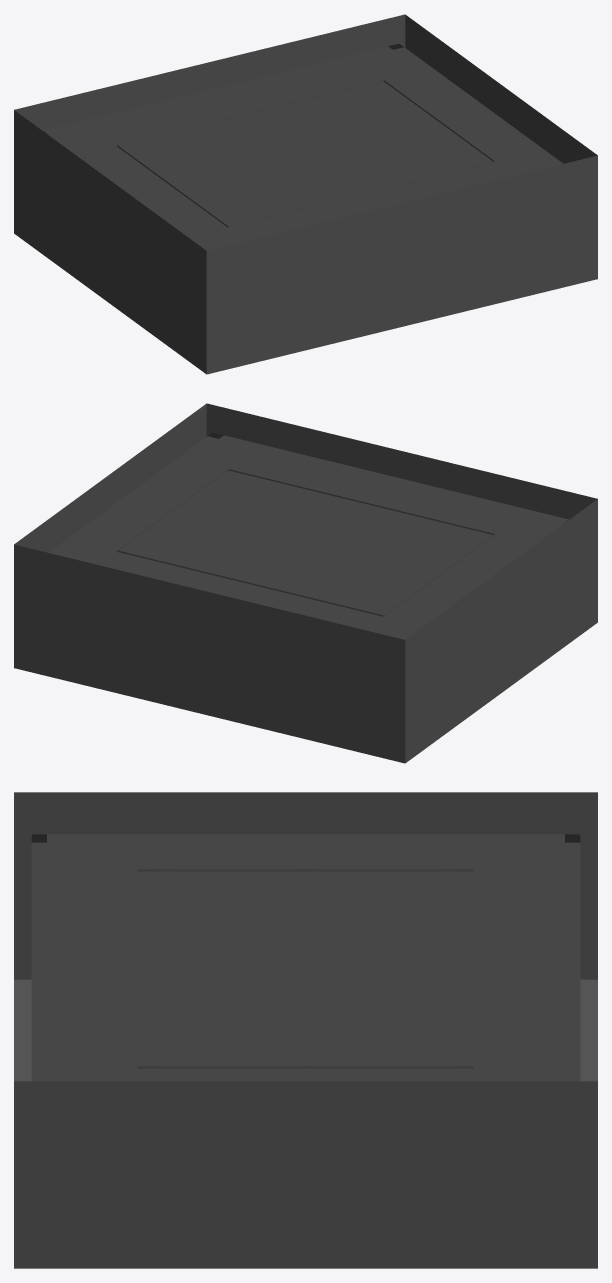
Rendered from Fire_kankisen.fbx.
3 views of the same model, one above another, from view 1: azimuth 30°, elevation 25°; view 2: azimuth 150°, elevation 25°; view 3: azimuth 270°, elevation 25° (orthographic). The views are drawn at different scales.
Visible parts, largest first — view 1: kankisenn; view 2: kankisenn; view 3: kankisenn.
Boxes of the visible parts, box(x1,y1,x2,y2) form: kankisenn: box(14, 14, 597, 374); kankisenn: box(14, 403, 597, 763); kankisenn: box(14, 792, 597, 1268).
Size of the model in its own units: 251 by 75.86 by 214.
